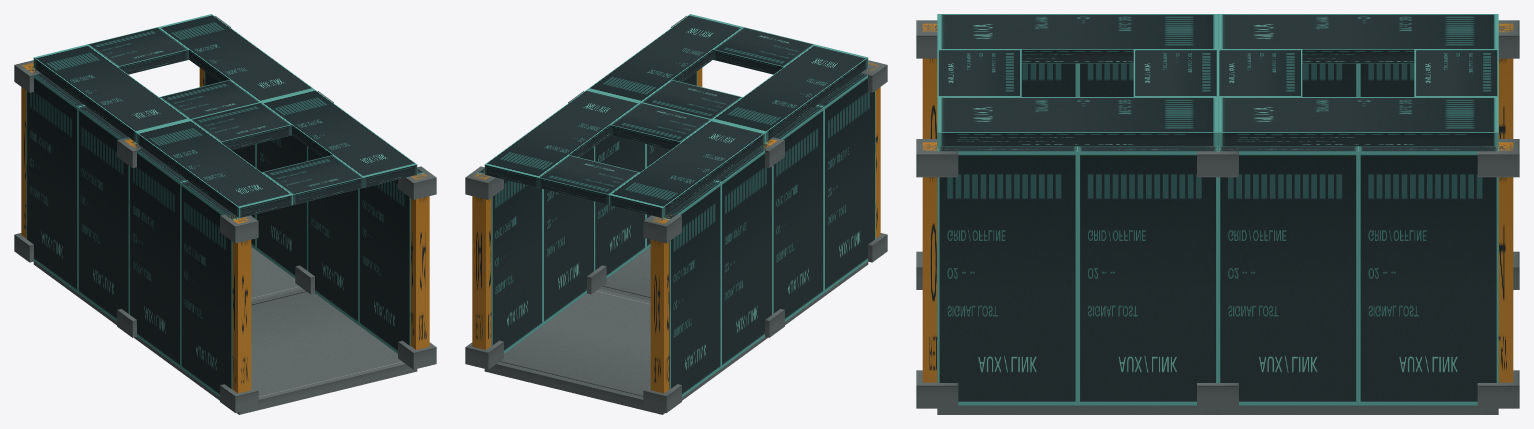
The model's file is ServiceCorridor_LOD3.obj.
3 renders of one model, left to right at view 1: azimuth 30°, elevation 25°; view 2: azimuth 150°, elevation 25°; view 3: azimuth 270°, elevation 25°, orthographic. The views are drawn at different scales.
Visible parts, largest first — view 1: 010_roof_skylight_4m.003, 011_roof_skylight_4m.003, 000_floor_4m.015, 002_wall_solid_2m.003, 005_wall_solid_2m.003, 003_wall_solid_2m.003, 004_wall_solid_2m.003, 006_wall_solid_2m.003, 007_wall_solid_2m.003, 012_column_4m.015, 015_column_4m.015, 008_wall_solid_2m.003 (+5 smaller); view 2: 011_roof_skylight_4m.003, 010_roof_skylight_4m.003, 001_floor_4m.007, 005_wall_solid_2m.003, 004_wall_solid_2m.003, 002_wall_solid_2m.003, 003_wall_solid_2m.003, 009_wall_solid_2m.003, 008_wall_solid_2m.003, 014_column_4m.015, 017_column_4m.007, 007_wall_solid_2m.003 (+5 smaller); view 3: 006_wall_solid_2m.003, 008_wall_solid_2m.003, 007_wall_solid_2m.003, 009_wall_solid_2m.003, 010_roof_skylight_4m.003, 011_roof_skylight_4m.003, 015_column_4m.015, 017_column_4m.007, 000_floor_4m.015, 001_floor_4m.007, 012_column_4m.015, 014_column_4m.015 (+5 smaller).
Part boxes in pixels (x1,y1,x2,y2): 010_roof_skylight_4m.003: (136, 89, 417, 218); 011_roof_skylight_4m.003: (33, 14, 313, 142); 000_floor_4m.015: (136, 289, 417, 414); 002_wall_solid_2m.003: (180, 180, 238, 397); 005_wall_solid_2m.003: (26, 68, 84, 293); 003_wall_solid_2m.003: (129, 143, 187, 368); 004_wall_solid_2m.003: (78, 105, 135, 321); 006_wall_solid_2m.003: (359, 168, 423, 353); 007_wall_solid_2m.003: (307, 146, 358, 324); 012_column_4m.015: (220, 213, 258, 412); 015_column_4m.015: (398, 166, 436, 369); 008_wall_solid_2m.003: (256, 135, 307, 278); 011_roof_skylight_4m.003: (484, 89, 765, 218); 010_roof_skylight_4m.003: (588, 14, 868, 142); 001_floor_4m.007: (484, 289, 765, 414); 005_wall_solid_2m.003: (663, 180, 721, 397); 004_wall_solid_2m.003: (714, 143, 772, 368); 002_wall_solid_2m.003: (817, 73, 875, 293); 003_wall_solid_2m.003: (766, 105, 823, 321); 009_wall_solid_2m.003: (478, 168, 542, 353); 008_wall_solid_2m.003: (543, 146, 594, 324); 014_column_4m.015: (643, 214, 681, 412); 017_column_4m.007: (465, 166, 503, 369); 007_wall_solid_2m.003: (594, 135, 645, 278); 006_wall_solid_2m.003: (937, 146, 1077, 405); 008_wall_solid_2m.003: (1218, 146, 1358, 405); 007_wall_solid_2m.003: (1077, 146, 1217, 405); 009_wall_solid_2m.003: (1358, 146, 1498, 405); 010_roof_skylight_4m.003: (937, 14, 1217, 146); 011_roof_skylight_4m.003: (1218, 14, 1498, 146); 015_column_4m.015: (916, 139, 958, 408); 017_column_4m.007: (1477, 139, 1519, 408); 000_floor_4m.015: (937, 405, 1217, 414); 001_floor_4m.007: (1218, 405, 1498, 414); 012_column_4m.015: (916, 20, 937, 289); 014_column_4m.015: (1498, 20, 1519, 289).
Bounding box in the file's own units: 4.52 × 4.44 × 8.6.
1 material, 1 textured.
